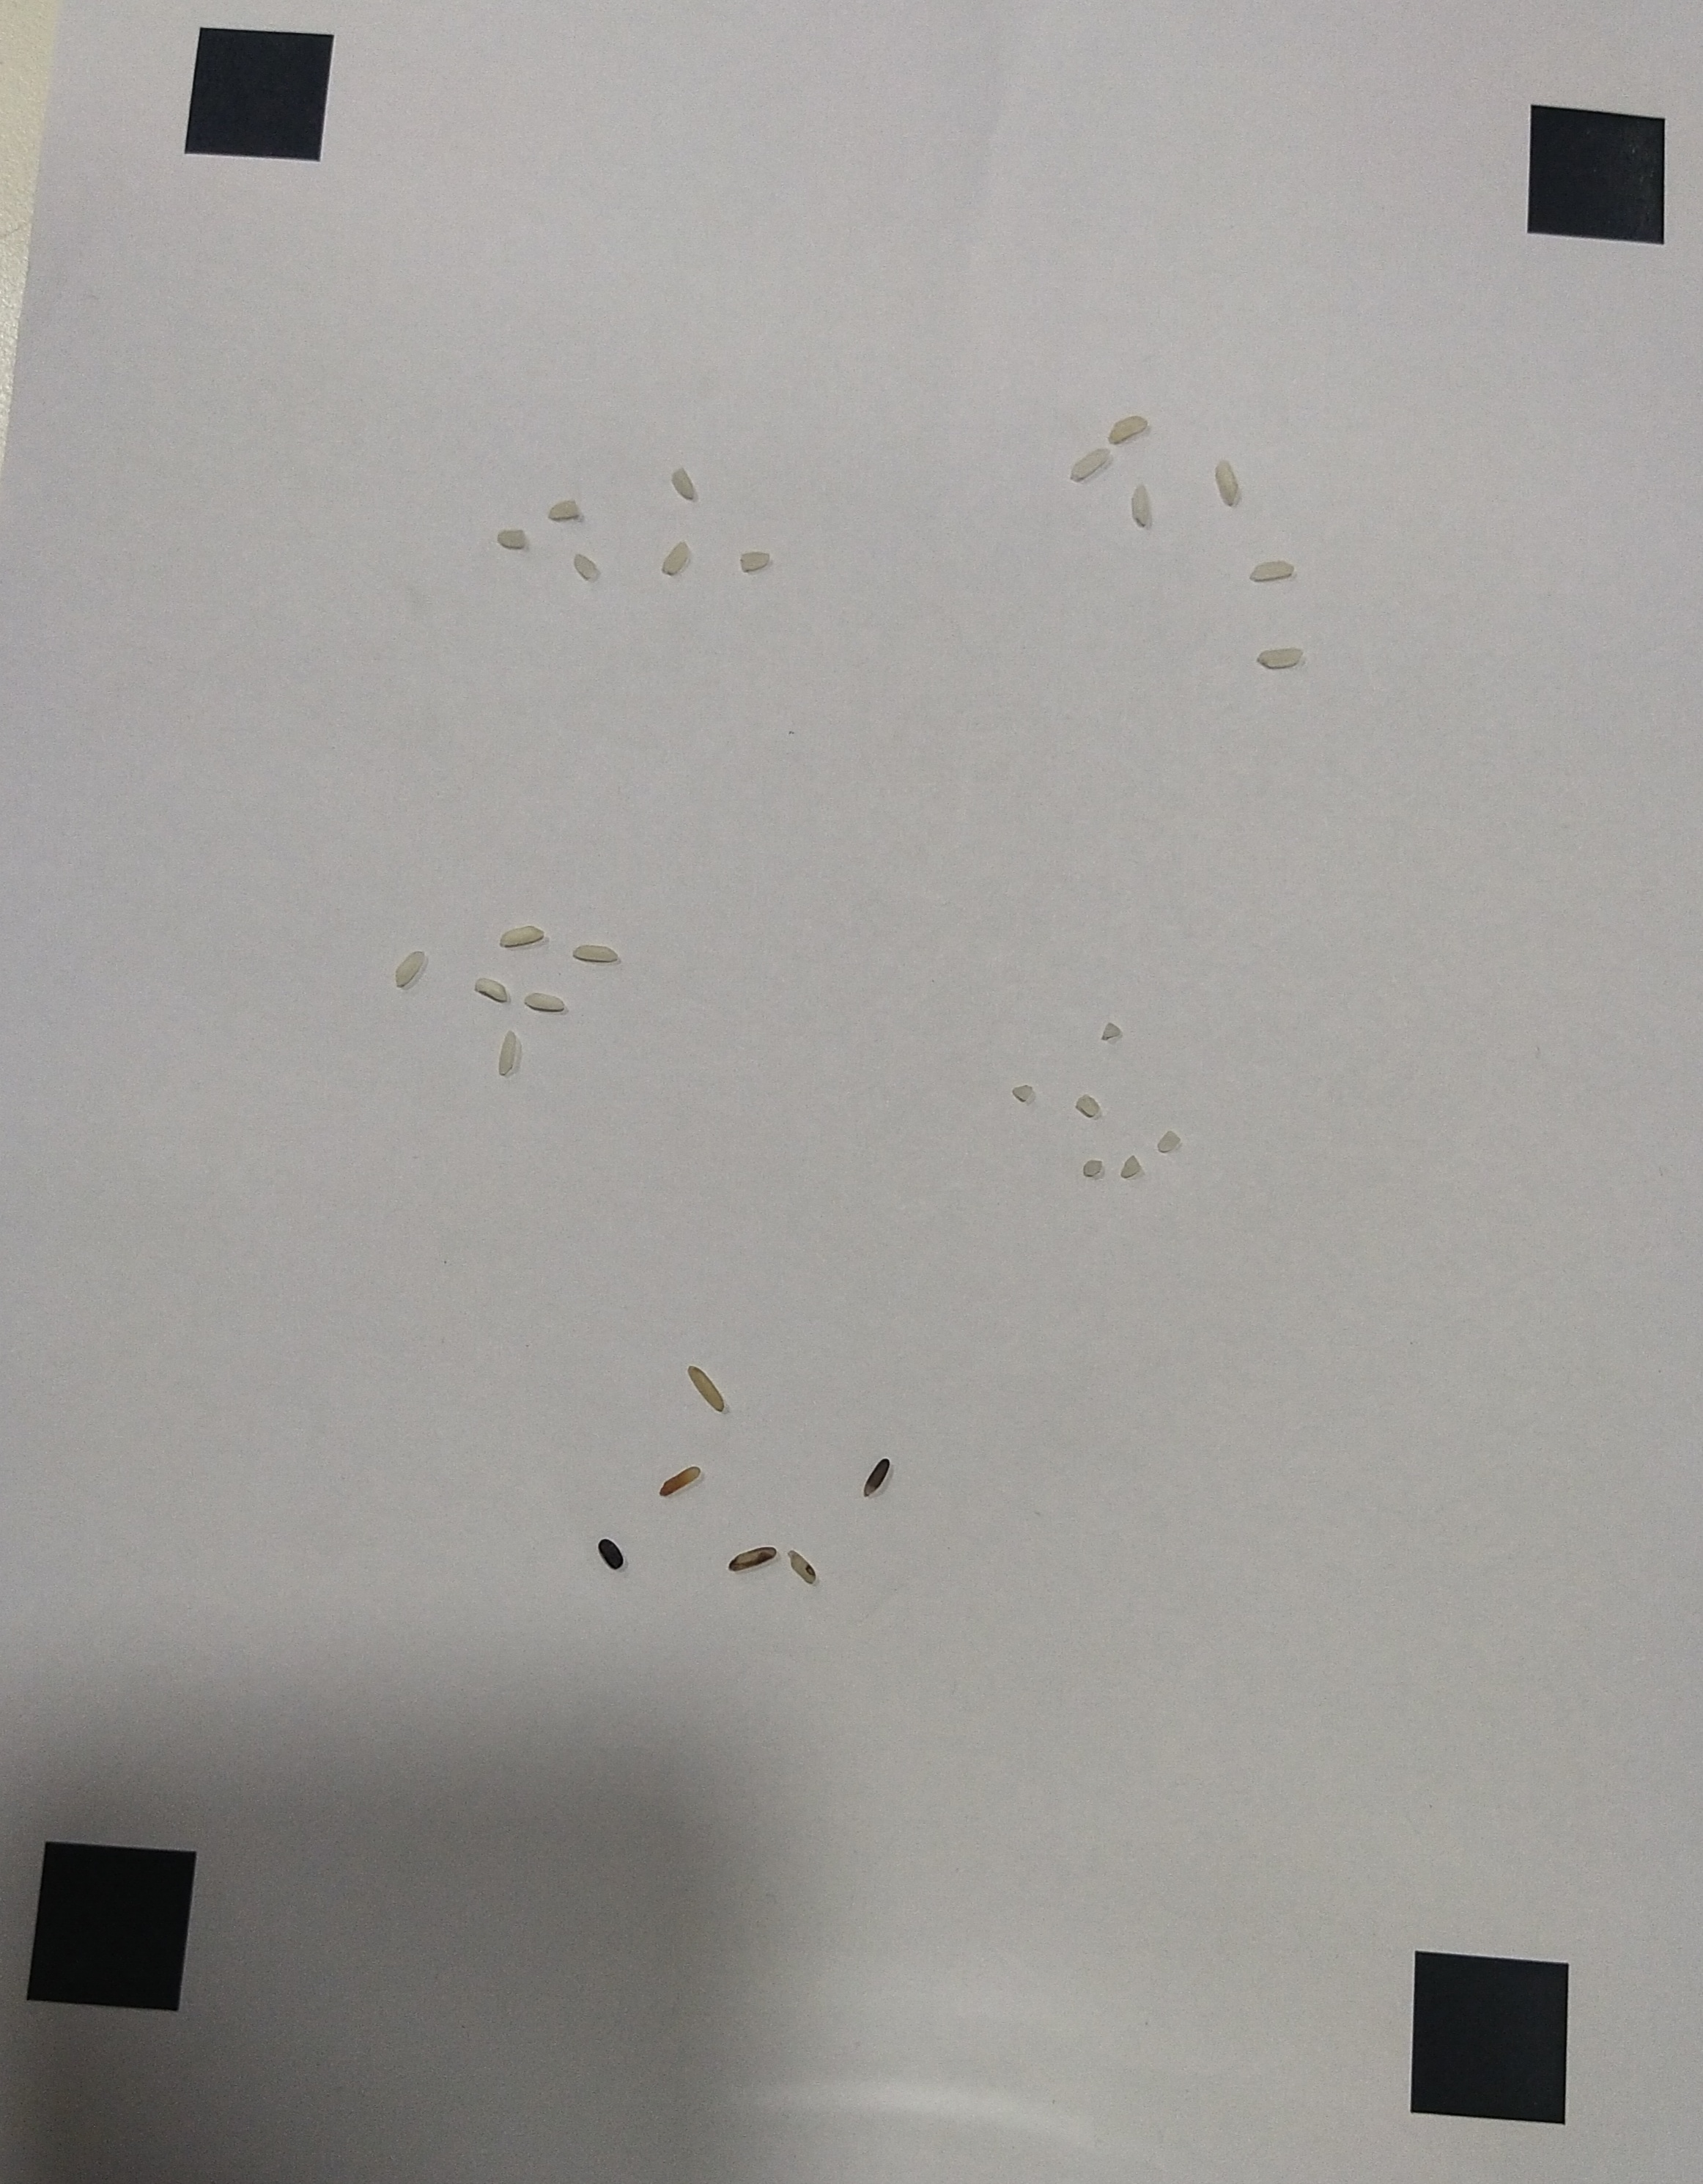broken: (1076, 1092, 1100, 1117), (1118, 1152, 1141, 1179), (1157, 1127, 1178, 1152), (1010, 1083, 1035, 1103), (1081, 1158, 1104, 1177), (1102, 1019, 1120, 1041)
chalky: (395, 948, 425, 991), (498, 922, 546, 947), (496, 1026, 517, 1074), (523, 991, 567, 1012), (475, 979, 509, 1002), (574, 945, 620, 961)
damage: (670, 463, 698, 500), (661, 541, 688, 576), (739, 550, 771, 576), (544, 500, 581, 519), (498, 525, 526, 550), (574, 553, 595, 580)
discolor: (688, 1363, 725, 1411), (727, 1544, 776, 1571), (661, 1464, 700, 1496), (865, 1457, 890, 1498), (789, 1548, 815, 1583), (597, 1537, 624, 1571)
good: (1070, 449, 1111, 480), (1109, 413, 1148, 445), (1216, 457, 1240, 507), (1251, 558, 1295, 581), (1255, 647, 1304, 667), (1131, 482, 1150, 527)
